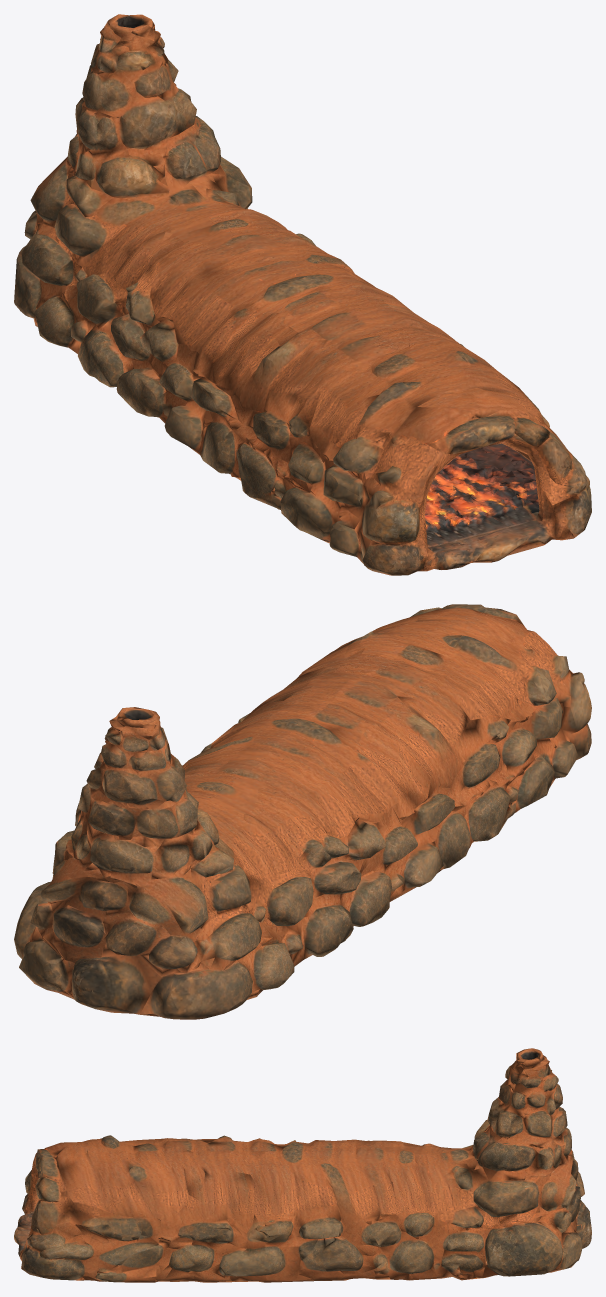
Rendered from primitive_kiln.glb.
3 renders of one model, top to bottom at view 1: azimuth 30°, elevation 25°; view 2: azimuth 150°, elevation 25°; view 3: azimuth 270°, elevation 25°, orthographic. The views are drawn at different scales.
Parts seen in each view (by area): view 1: Kiln; view 2: Kiln; view 3: Kiln.
Part boxes in pixels (x1,y1,x2,y2): Kiln: [14, 14, 591, 575]; Kiln: [14, 604, 591, 1019]; Kiln: [14, 1048, 591, 1282].
Bounding box in the file's own units: 0.9816 × 0.9862 × 2.74.
Materials: 1 (1 with a texture image).
